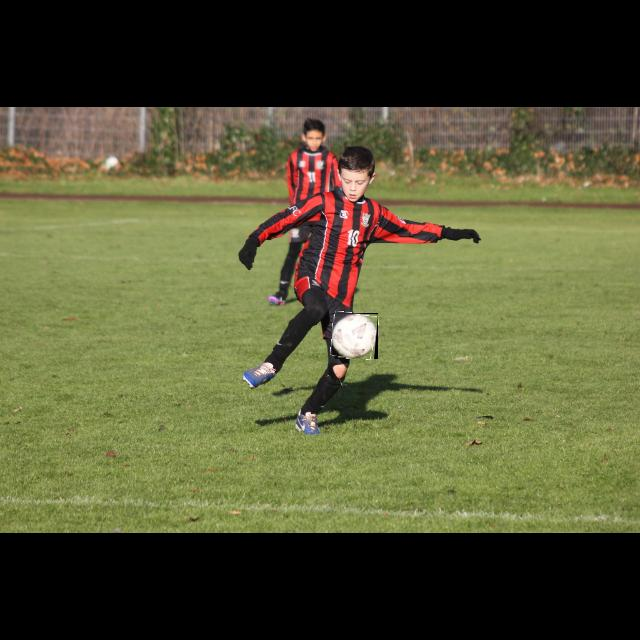Football: (332, 313, 378, 359)
